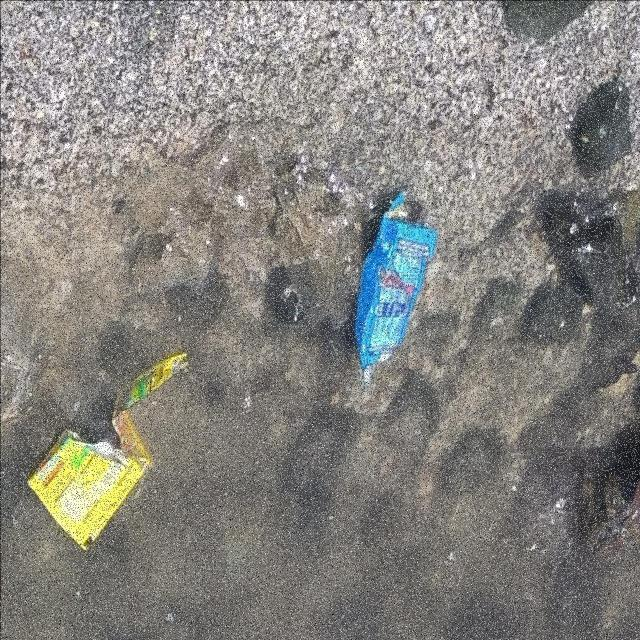plastic_waste: (28, 353, 191, 553), (353, 190, 439, 396)
